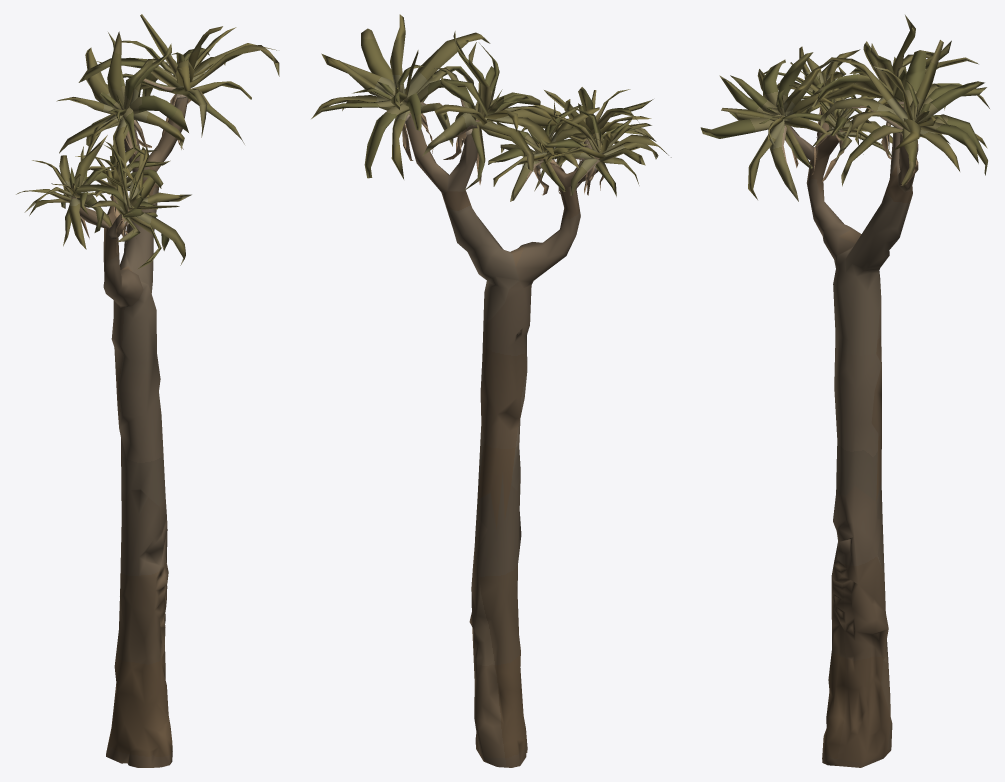
Rendered from ph_quiver_1.glb.
3 views of the same model, side by side, from view 1: azimuth 30°, elevation 25°; view 2: azimuth 150°, elevation 25°; view 3: azimuth 270°, elevation 25° (orthographic). The views are drawn at different scales.
Parts seen in each view (by area): view 1: ph_quiver_1_lod1; view 2: ph_quiver_1_lod1; view 3: ph_quiver_1_lod1.
Boxes of the visible parts, bbox=[...] form: ph_quiver_1_lod1: bbox=[16, 14, 279, 767]; ph_quiver_1_lod1: bbox=[311, 14, 671, 767]; ph_quiver_1_lod1: bbox=[700, 15, 989, 767].
Size of the model in its own units: 1.18 by 2.67 by 0.9432.
Materials: 2 (2 with a texture image).
